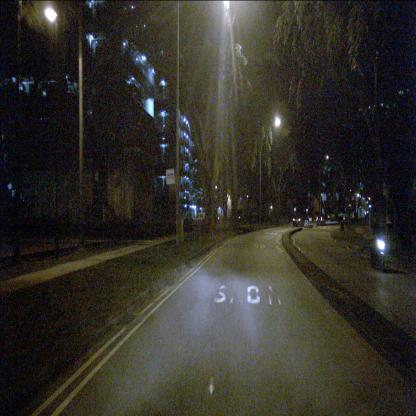human-pedestrian-adult: (370, 204, 380, 244)
vehicle-car: (292, 213, 304, 227), (192, 212, 207, 223), (316, 214, 326, 226)
vehicle-motorcycle: (369, 225, 385, 271)
